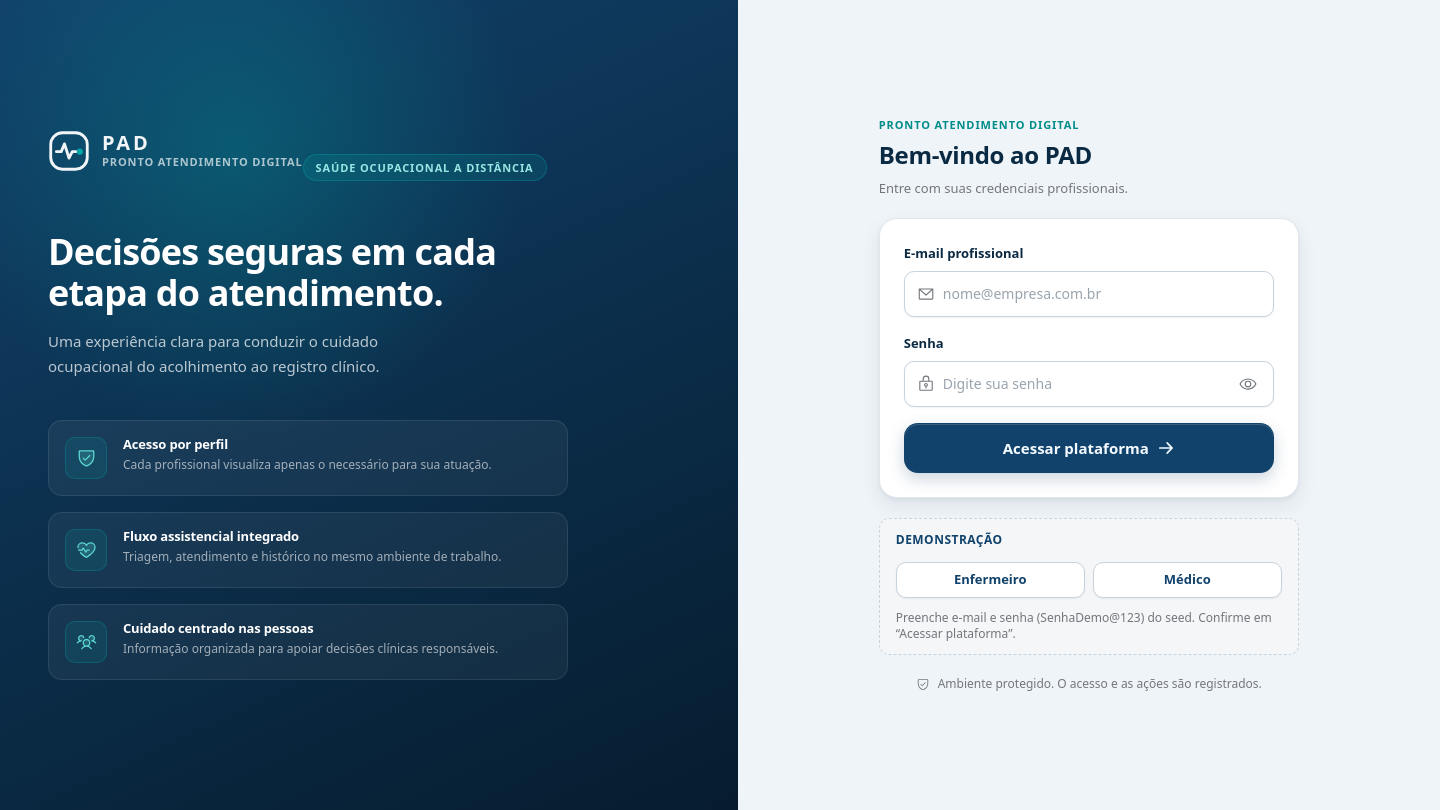
Scenario: LoginPage › mostra uma mensagem quando a autenticação falha
In the field labelled "E-mail profissional": (1102,294) [943,272,1261,316], type "teste@pad.local"
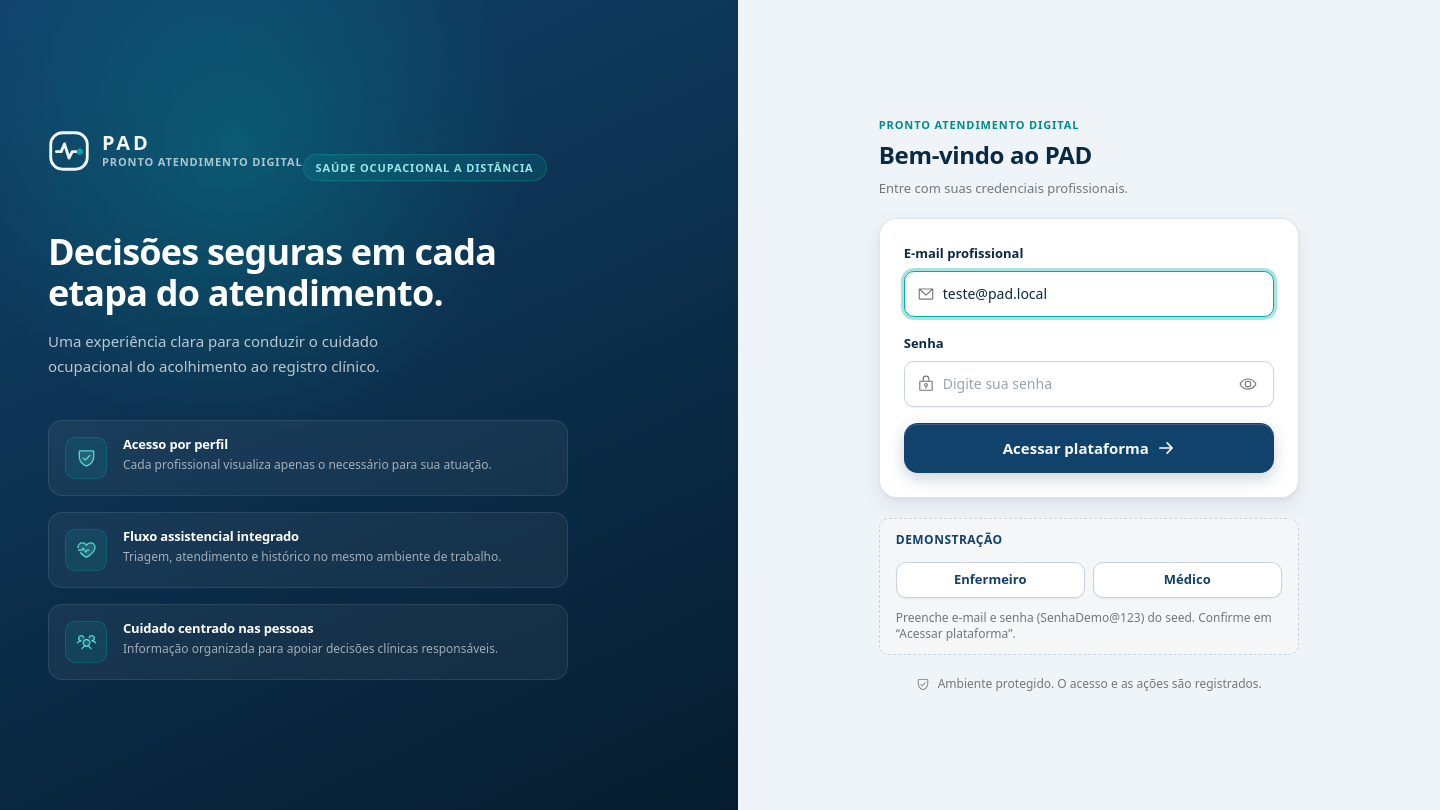
In the password field labelled "Senha": (1085,384) [943,362,1227,406], type "senha"
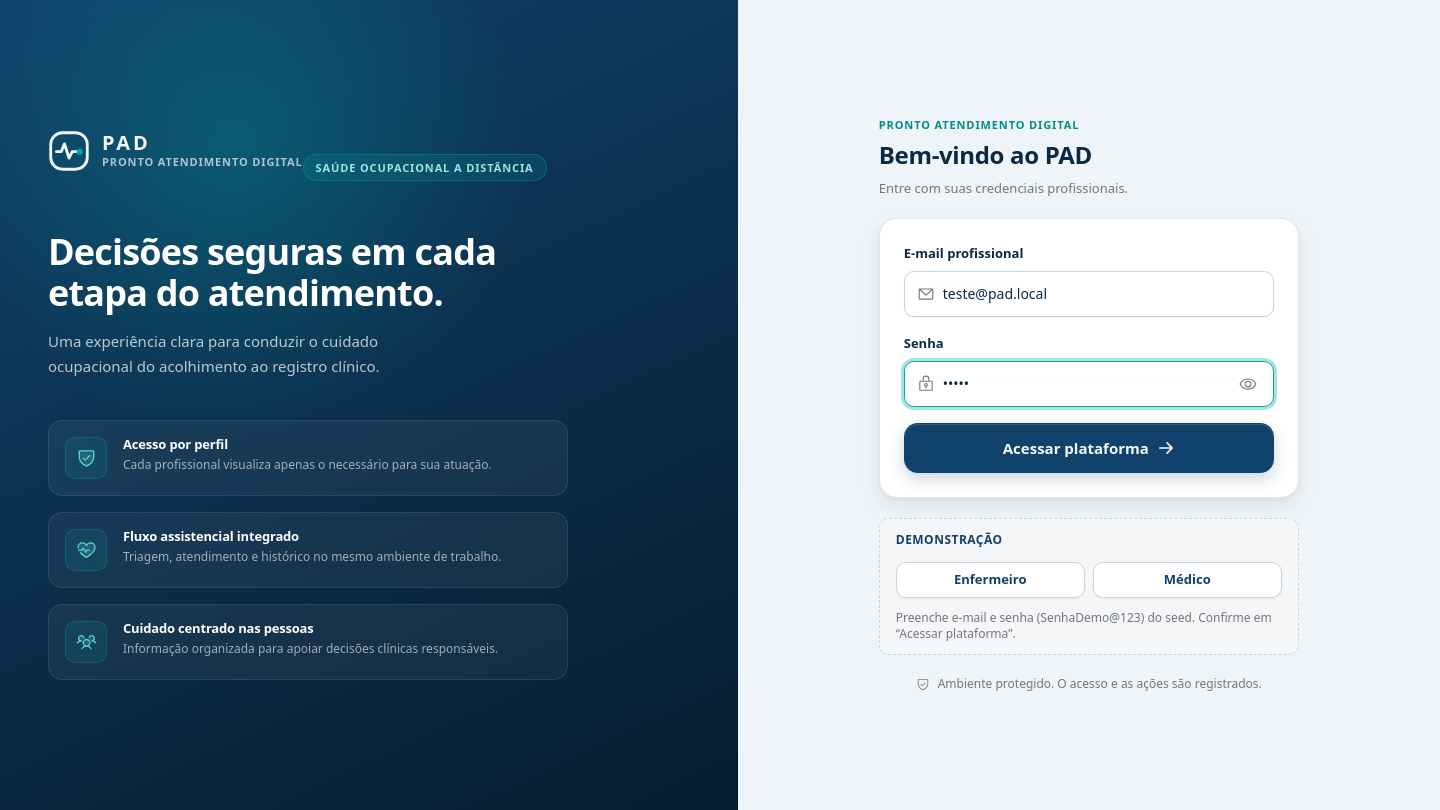
Click the button "Acessar plataforma": (1089,448) [904,423,1274,473]
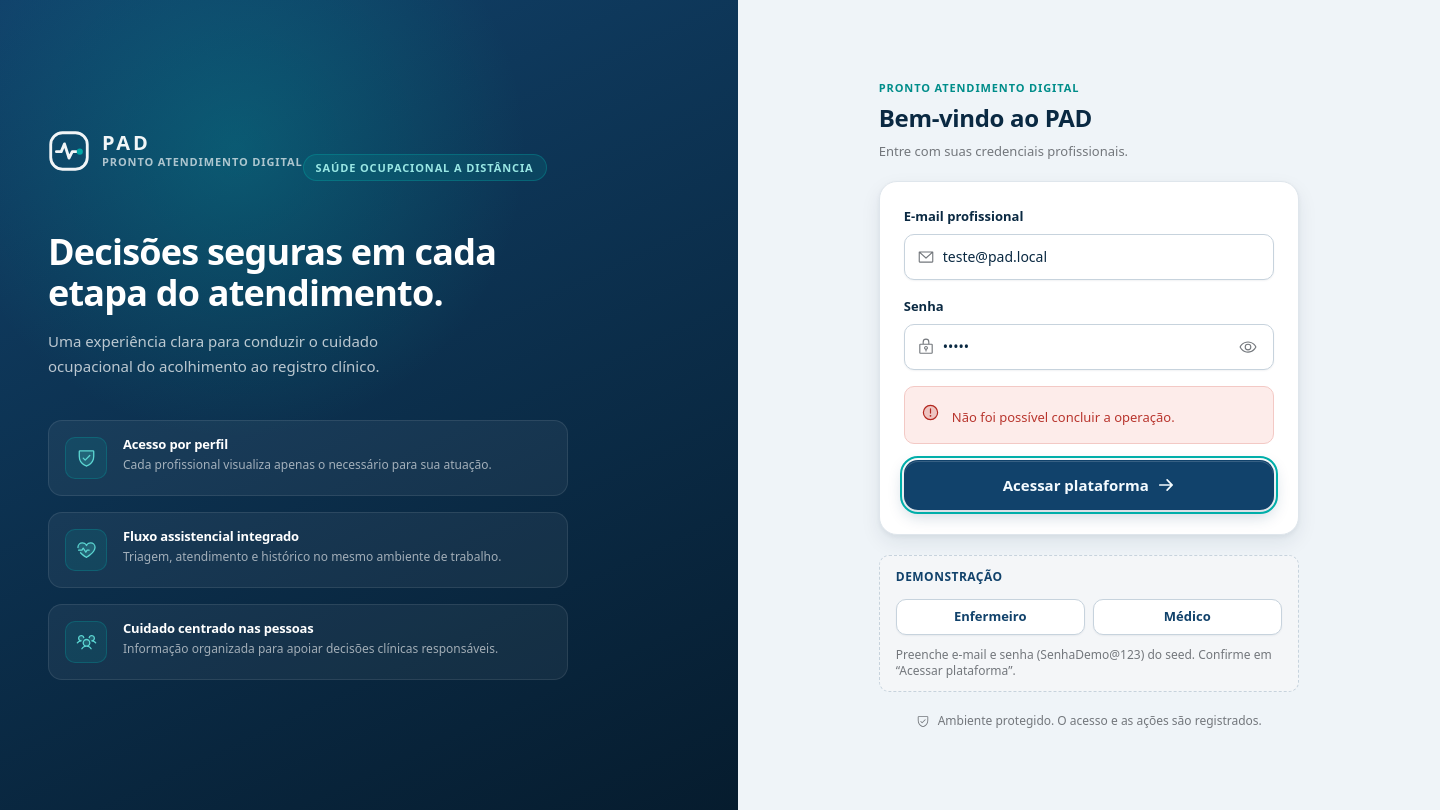
Check: the text "Não foi possível concluir a operação." is shown, box [952,407,1175,427]
